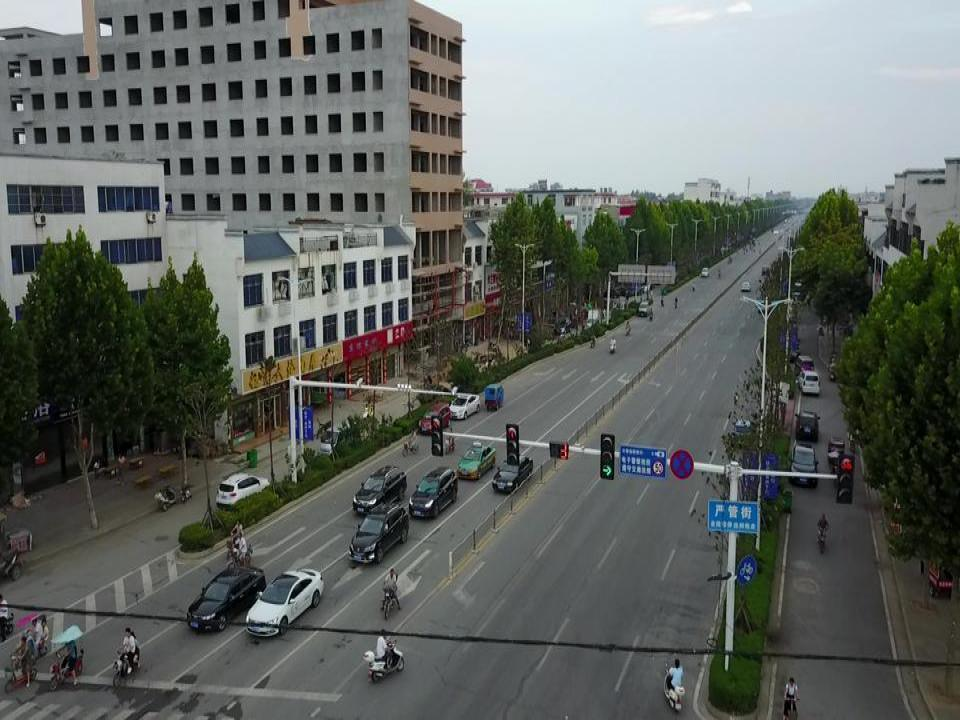car: (242, 568, 326, 637), (184, 570, 266, 634), (346, 501, 411, 567), (410, 465, 462, 520), (351, 466, 409, 514), (216, 473, 272, 508), (458, 442, 496, 478), (493, 456, 534, 489), (789, 442, 818, 486), (418, 400, 450, 433), (448, 392, 481, 420), (795, 408, 818, 443), (732, 420, 752, 443), (795, 353, 814, 375), (740, 278, 751, 290), (699, 266, 709, 278)
van: (317, 422, 362, 454), (797, 369, 819, 394), (637, 300, 649, 316)
